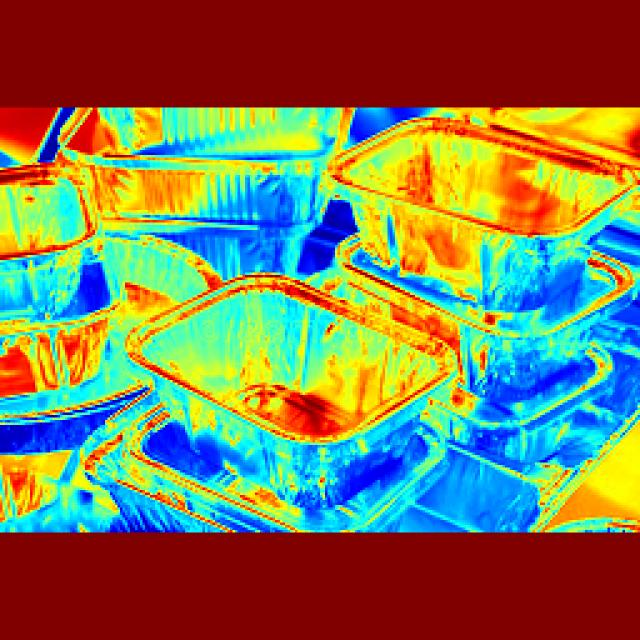Aluminium Food Cans: (114, 413, 418, 542), (343, 119, 581, 276), (148, 284, 387, 440), (378, 250, 616, 393), (84, 104, 340, 206), (0, 170, 130, 282), (445, 389, 640, 456), (1, 407, 107, 528), (8, 287, 141, 367)
